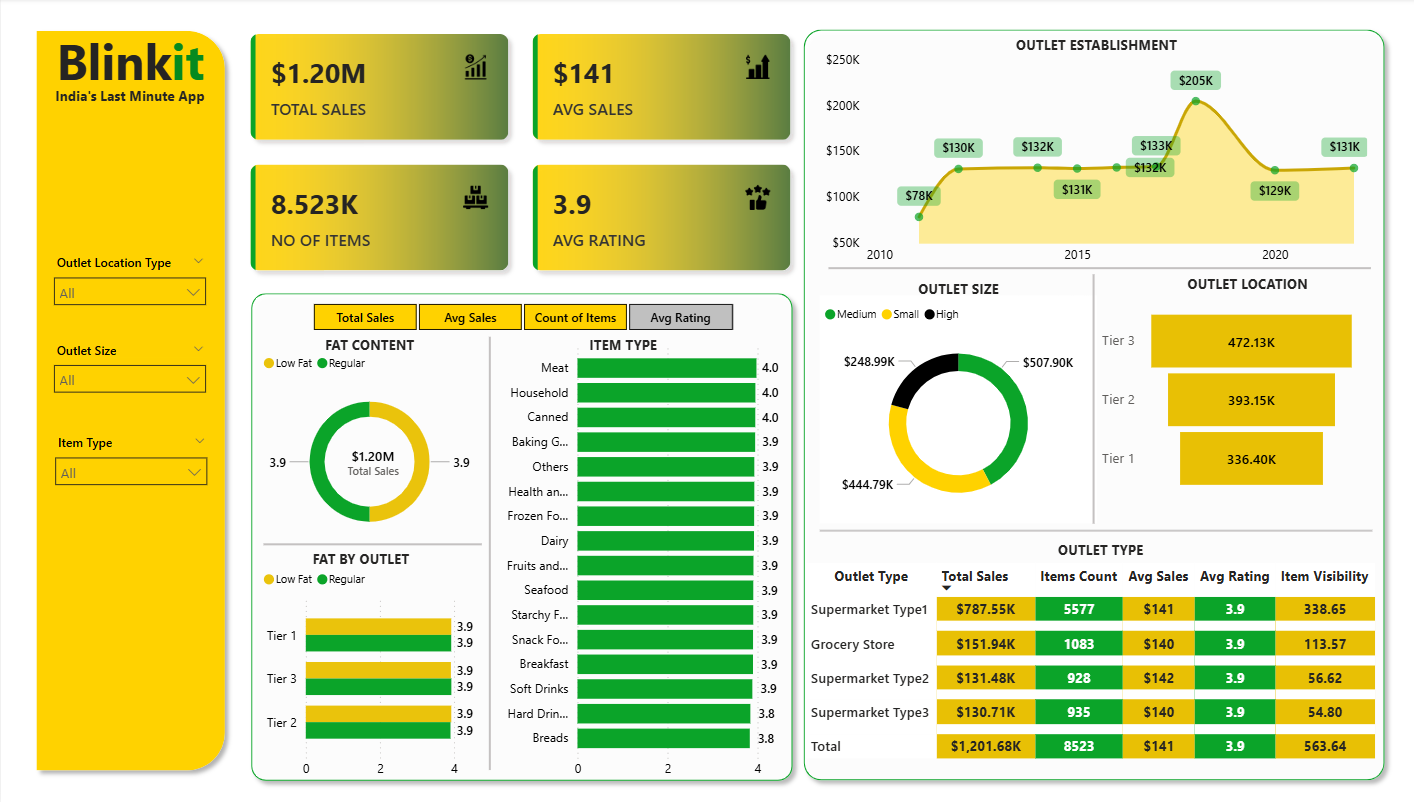

Layout of this report page (visuals, bound fields, positions):
{"tool":"powerbi","page":{"name":"Main Page","canvas":[1399,800],"ordinal":0},"visuals":[{"type":"shape","box":[25.9,23.2,204.5,749.8],"z":0},{"type":"textbox","box":[42.3,24.5,171.8,84.5],"z":1000},{"type":"textbox","box":[43.6,83.2,169.1,31.4],"z":2000},{"type":"cardVisual","fields":{"Data":["BlinkIT Grocery Data.Total Sales","BlinkIT Grocery Data.Avg Sales","BlinkIT Grocery Data.Count of Items","BlinkIT Grocery Data.Avg Rating"]},"box":[230.4,19.1,569.9,269.9],"z":3000},{"type":"shape","box":[238.6,283.6,553.5,500.3],"z":4000},{"type":"donutChart","title":"FAT CONTENT","fields":{"Y":["BlinkIT Grocery Data.Total Sales"],"Category":["BlinkIT Grocery Data.Item Fat Content"]},"box":[254.4,343,220.3,205.1],"z":5000},{"type":"slicer","fields":{"Values":["Metrics.Metrics"]},"box":[283.1,295,464.4,40],"z":6000},{"type":"cardVisual","fields":{"Data":["BlinkIT Grocery Data.Total Sales"]},"box":[320.3,426.6,96.2,57],"z":7000},{"type":"clusteredBarChart","title":"FAT BY OUTLET","fields":{"Y":["BlinkIT Grocery Data.Total Sales"],"Category":["BlinkIT Grocery Data.Outlet Location Type"],"Series":["BlinkIT Grocery Data.Item Fat Content"]},"box":[254.4,557,221.5,224.1],"z":8000},{"type":"shape","box":[260,533.8,216.2,12.5],"z":9000},{"type":"shape","box":[476.2,335,15,428.8],"z":10000},{"type":"barChart","title":"ITEM TYPE","fields":{"Y":["BlinkIT Grocery Data.Total Sales"],"Category":["BlinkIT Grocery Data.Item Type"]},"box":[483.8,333.8,295,447.5],"z":11000},{"type":"textbox","box":[568.5,328.5,93.8,28.5],"z":12000},{"type":"textbox","box":[303.8,329.1,121.5,27.8],"z":13000},{"type":"textbox","box":[297.5,540.5,116.5,27.8],"z":14000},{"type":"shape","box":[785,22.5,592.5,760.8],"z":15000},{"type":"lineChart","fields":{"Category":["BlinkIT Grocery Data.Outlet Establishment Year"],"Y":["BlinkIT Grocery Data.Total Sales"]},"box":[811.4,46.8,545.6,225.3],"z":16000},{"type":"textbox","box":[1000,31.6,169.6,29.1],"z":17000},{"type":"donutChart","fields":{"Category":["BlinkIT Grocery Data.Outlet Size"],"Y":["BlinkIT Grocery Data.Total Sales"]},"box":[810.1,294.9,274.7,225.3],"z":18000},{"type":"textbox","box":[888.6,273.4,119,29.1],"z":19000},{"type":"shape","box":[1077.2,273.4,7.6,246.8],"z":20000},{"type":"funnel","fields":{"Y":["Sum(BlinkIT Grocery Data.Sales)"],"Category":["BlinkIT Grocery Data.Outlet Location Type"]},"box":[1084.8,259.5,262,274.7],"z":21000},{"type":"textbox","box":[1157,268.4,154.4,29.1],"z":22000},{"type":"shape","box":[810.1,519,546.8,15.2],"z":23000},{"type":"shape","box":[819,260.8,536.7,12.7],"z":24000},{"type":"pivotTable","fields":{"Rows":["BlinkIT Grocery Data.Outlet Type"],"Values":["BlinkIT Grocery Data.Total Sales","BlinkIT Grocery Data.Count of Items","BlinkIT Grocery Data.Avg Sales","BlinkIT Grocery Data.Avg Rating","Sum(BlinkIT Grocery Data.Item Visibility)"]},"box":[791.1,554.4,574.7,230.4],"z":25000},{"type":"textbox","box":[1019,531.6,138,29.1],"z":26000},{"type":"slicer","fields":{"Values":["BlinkIT Grocery Data.Outlet Location Type"]},"box":[41.8,248.1,170.9,81],"z":27000},{"type":"slicer","fields":{"Values":["BlinkIT Grocery Data.Item Type"]},"box":[43,426.6,170.9,81],"z":28000},{"type":"slicer","fields":{"Values":["BlinkIT Grocery Data.Outlet Size"]},"box":[41.8,335.4,170.9,81],"z":29000}]}

Visuals, with their boxes in screenshot pixels (x1, y1, x2, y2), scaled from the page's 1399x800 canvas onto the 1414x802 screenshot:
shape: [26,23,233,775]
textbox: [43,25,216,109]
textbox: [44,83,215,115]
cardVisual - BlinkIT Grocery Data.Total Sales x BlinkIT Grocery Data.Avg Sales: [233,19,809,290]
shape: [241,284,801,786]
"FAT CONTENT" donutChart: [257,344,480,549]
slicer - Metrics.Metrics: [286,296,756,336]
cardVisual - BlinkIT Grocery Data.Total Sales: [324,428,421,485]
"FAT BY OUTLET" clusteredBarChart: [257,558,481,783]
shape: [263,535,481,548]
shape: [481,336,496,766]
"ITEM TYPE" barChart: [489,335,787,783]
textbox: [575,329,669,358]
textbox: [307,330,430,358]
textbox: [301,542,418,570]
shape: [793,23,1392,785]
lineChart - BlinkIT Grocery Data.Outlet Establishment Year x BlinkIT Grocery Data.Total Sales: [820,47,1372,273]
textbox: [1011,32,1182,61]
donutChart - BlinkIT Grocery Data.Outlet Size x BlinkIT Grocery Data.Total Sales: [819,296,1096,522]
textbox: [898,274,1018,303]
shape: [1089,274,1096,522]
funnel - Sum(BlinkIT Grocery Data.Sales) x BlinkIT Grocery Data.Outlet Location Type: [1096,260,1361,536]
textbox: [1169,269,1325,298]
shape: [819,520,1371,536]
shape: [828,261,1370,274]
pivotTable - BlinkIT Grocery Data.Outlet Type x BlinkIT Grocery Data.Total Sales: [800,556,1380,787]
textbox: [1030,533,1169,562]
slicer - BlinkIT Grocery Data.Outlet Location Type: [42,249,215,330]
slicer - BlinkIT Grocery Data.Item Type: [43,428,216,509]
slicer - BlinkIT Grocery Data.Outlet Size: [42,336,215,417]
